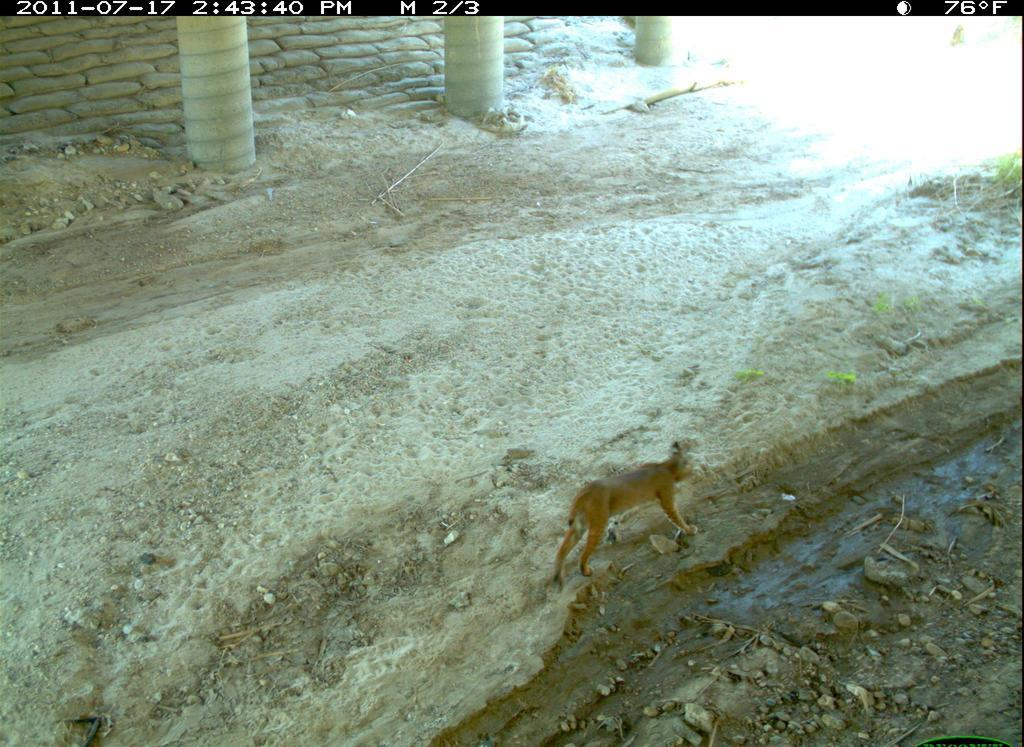bobcat: (552, 440, 706, 585)
